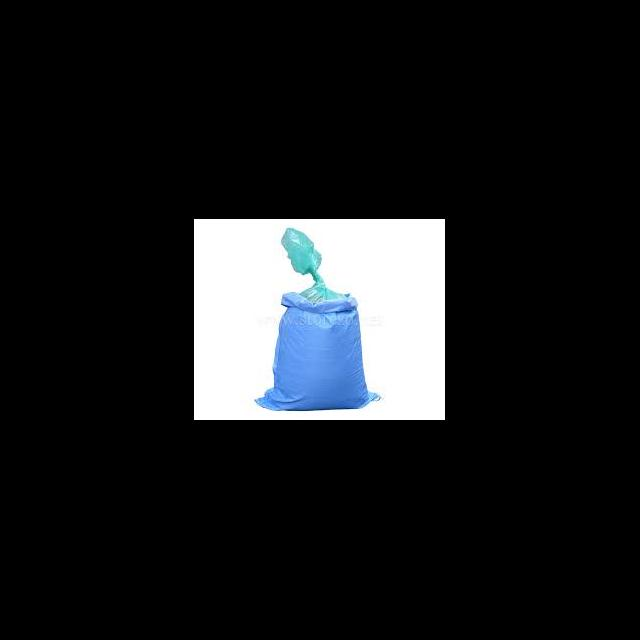plastic: (255, 228, 382, 410)
